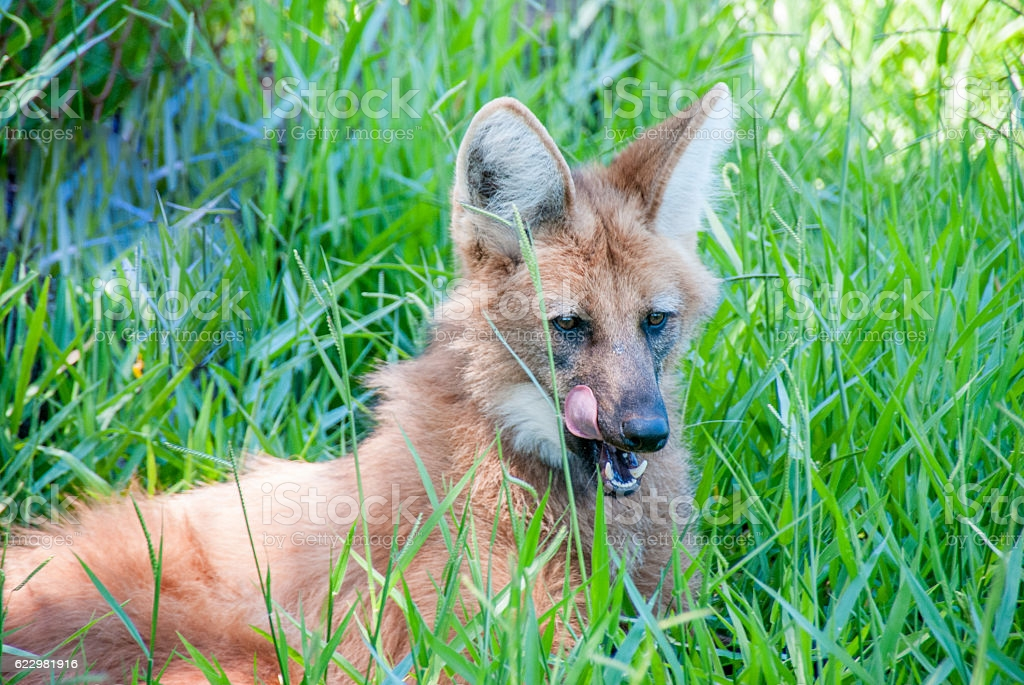LoboGuara: (182, 81, 763, 642)
